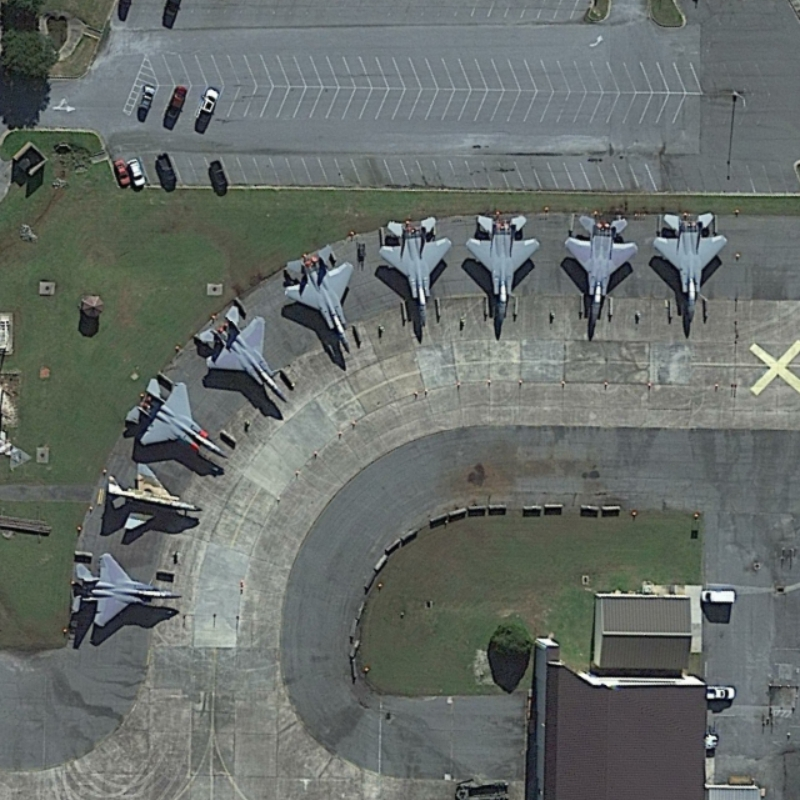A13: (459, 208, 548, 346), (184, 295, 292, 408), (559, 205, 642, 343), (115, 369, 230, 467), (367, 211, 457, 336), (64, 549, 185, 640), (650, 204, 730, 331), (275, 242, 360, 359)
A5: (98, 460, 207, 537)
